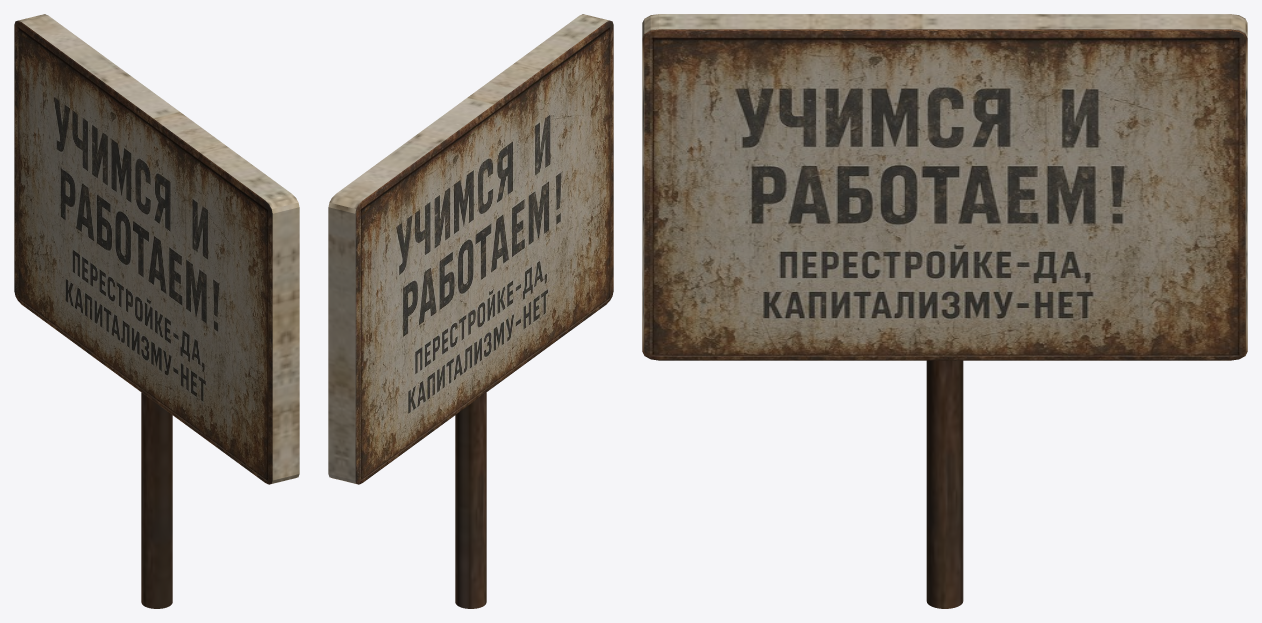
File: billboard_soviet.glb
3 views of the same model, side by side, from view 1: azimuth 30°, elevation 25°; view 2: azimuth 150°, elevation 25°; view 3: azimuth 270°, elevation 25° (orthographic). The views are drawn at different scales.
Parts seen in each view (by area): view 1: billboard_soviet; view 2: billboard_soviet; view 3: billboard_soviet.
Part boxes in pixels (x1,y1,x2,y2): billboard_soviet: [14, 14, 299, 608]; billboard_soviet: [328, 14, 613, 608]; billboard_soviet: [642, 14, 1247, 608].
Size of the model in its own units: 0.2533 by 4.2 by 3.98.
1 material, 1 textured.
